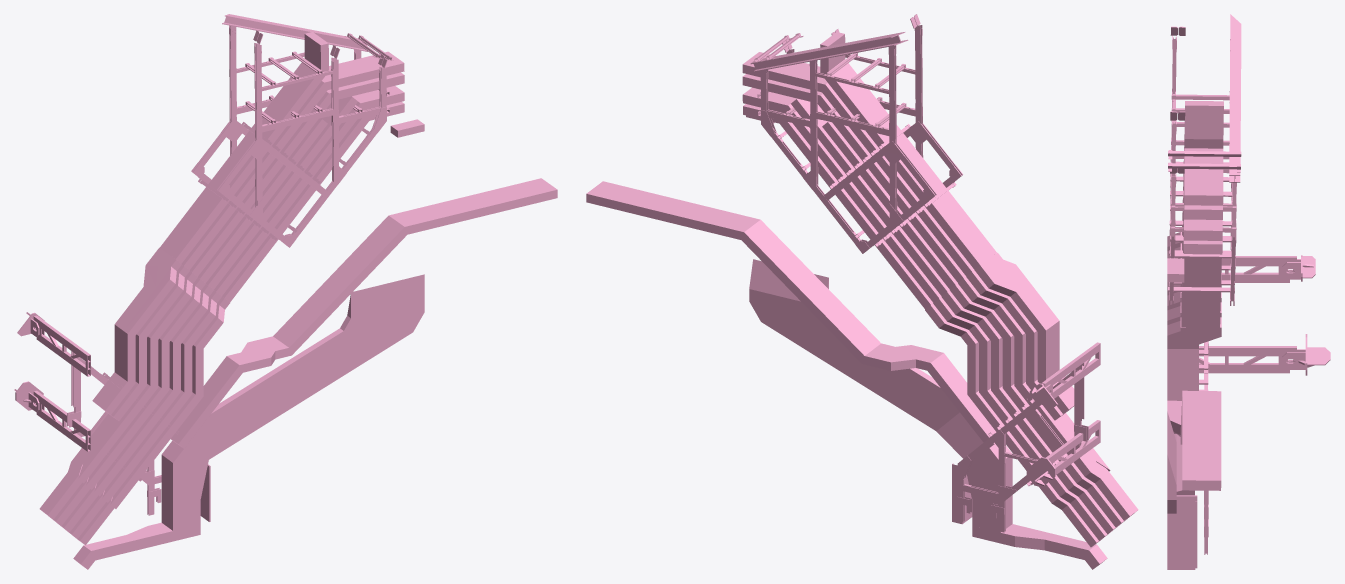
The model's file is Serv-Z0-Sec3-cut1.glb.
The picture shows the model from 3 angles, left to right: view 1: azimuth 30°, elevation 25°; view 2: azimuth 150°, elevation 25°; view 3: azimuth 270°, elevation 25°; orthographic projection. The views are drawn at different scales.
Visible parts, largest first — view 1: Serv-Z0-Sec3-cut1; view 2: Serv-Z0-Sec3-cut1; view 3: Serv-Z0-Sec3-cut1.
Boxes of the visible parts, left/top/right/bottom form: Serv-Z0-Sec3-cut1: left=14, top=14, right=557, bottom=569; Serv-Z0-Sec3-cut1: left=586, top=14, right=1138, bottom=569; Serv-Z0-Sec3-cut1: left=1167, top=14, right=1330, bottom=569.
Size of the model in its own units: 7.7 by 7.09 by 1.76.
